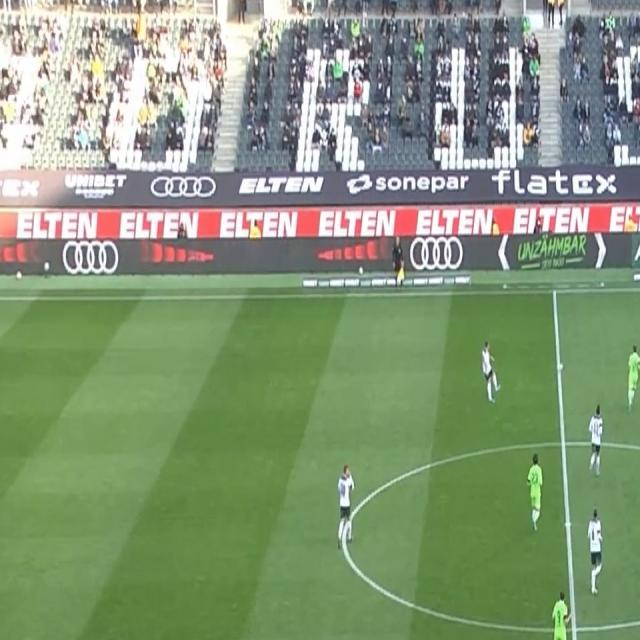ball: (556, 360, 564, 375)
